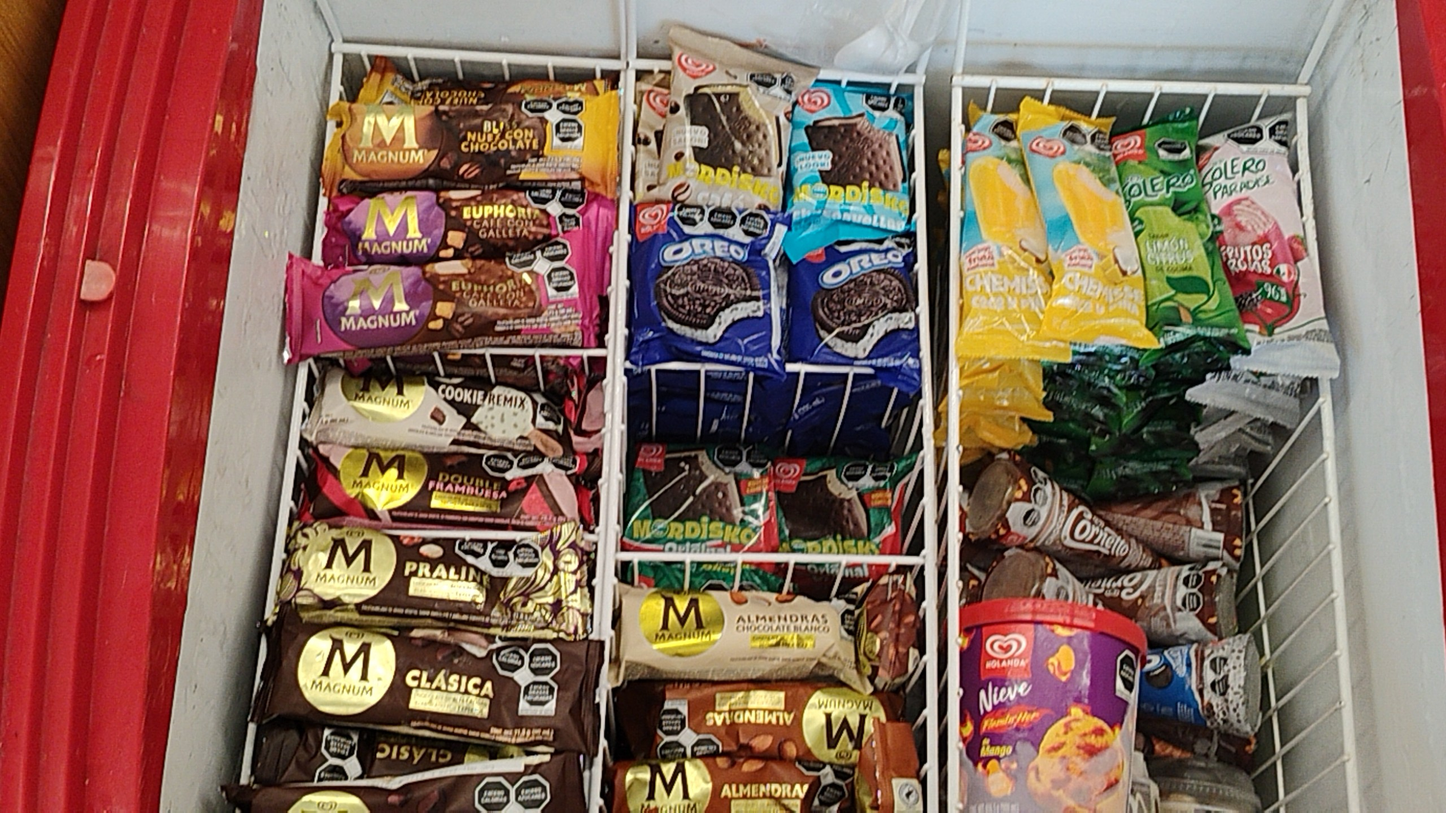Magnum clasica: (252, 709, 531, 789), (265, 646, 601, 709)
Oreo Mordizco: (633, 206, 770, 363), (792, 235, 932, 380)
